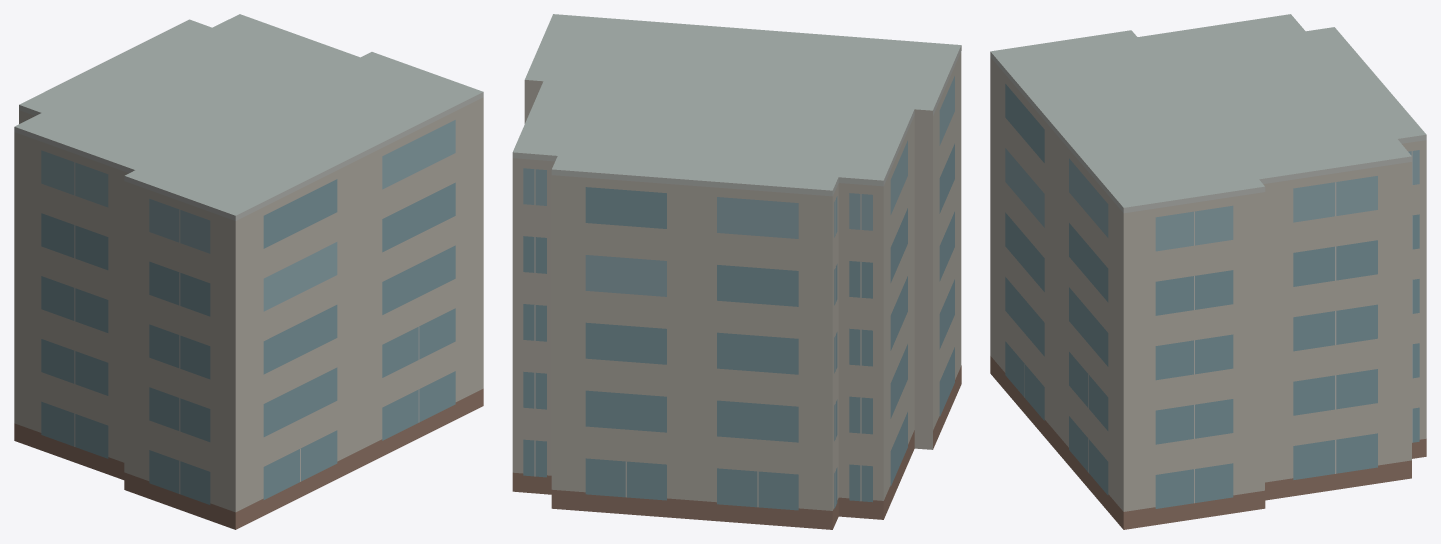
The model's file is survey-upis-32708243.glb.
3 renders of one model, left to right at view 1: azimuth 30°, elevation 25°; view 2: azimuth 150°, elevation 25°; view 3: azimuth 270°, elevation 25°, orthographic. The views are drawn at different scales.
Parts seen in each view (by area): view 1: survey-upis-32708243.tmp; view 2: survey-upis-32708243.tmp; view 3: survey-upis-32708243.tmp.
Boxes of the visible parts, x1,y1,x2,y2 form: survey-upis-32708243.tmp: (14, 14, 483, 529); survey-upis-32708243.tmp: (512, 14, 961, 529); survey-upis-32708243.tmp: (990, 14, 1426, 529).
Size of the model in its own units: 18.61 by 14.4 by 17.69.
